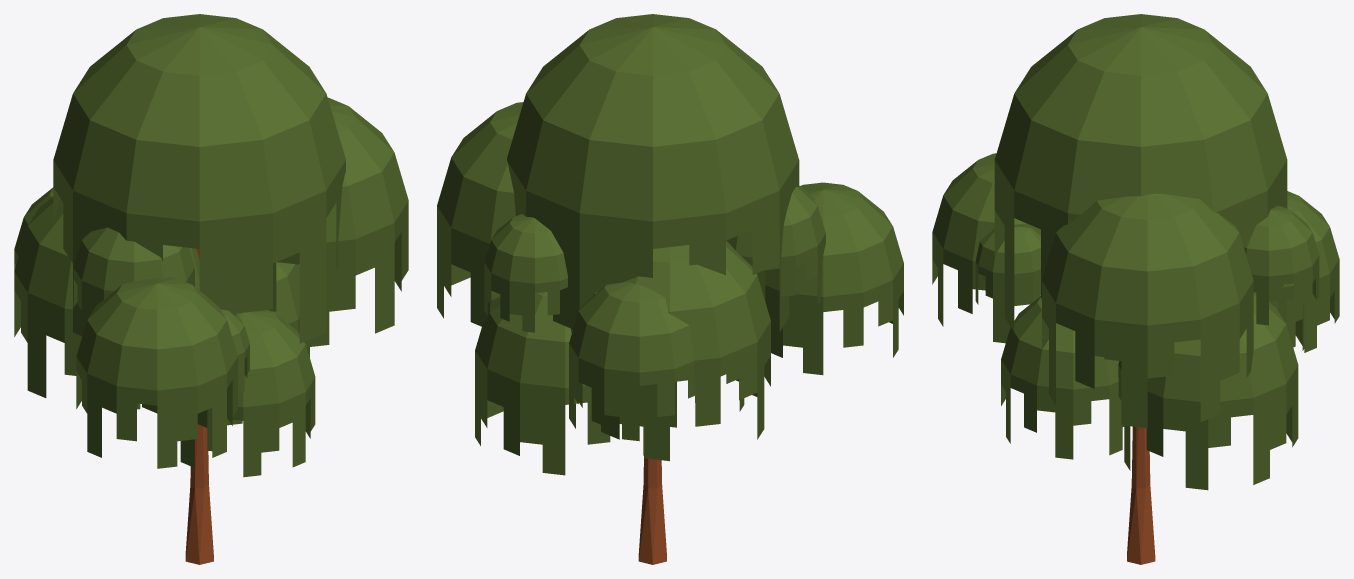
File: willow_tree_1.fbx
3 views of the same model, side by side, from view 1: azimuth 30°, elevation 25°; view 2: azimuth 150°, elevation 25°; view 3: azimuth 270°, elevation 25° (orthographic).
Visible parts, largest first — view 1: _G-Object (Loose Mesh), G-Object.003; view 2: _G-Object (Loose Mesh), G-Object.003; view 3: _G-Object (Loose Mesh), G-Object.003.
Part boxes in pixels (<box>): _G-Object (Loose Mesh): <box>14,14,408,477</box>; G-Object.003: <box>185,248,213,564</box>; _G-Object (Loose Mesh): <box>437,14,903,475</box>; G-Object.003: <box>638,454,666,564</box>; _G-Object (Loose Mesh): <box>932,14,1339,490</box>; G-Object.003: <box>1127,426,1155,564</box>.
Bounding box in the file's own units: 1071 × 1451 × 1008.
